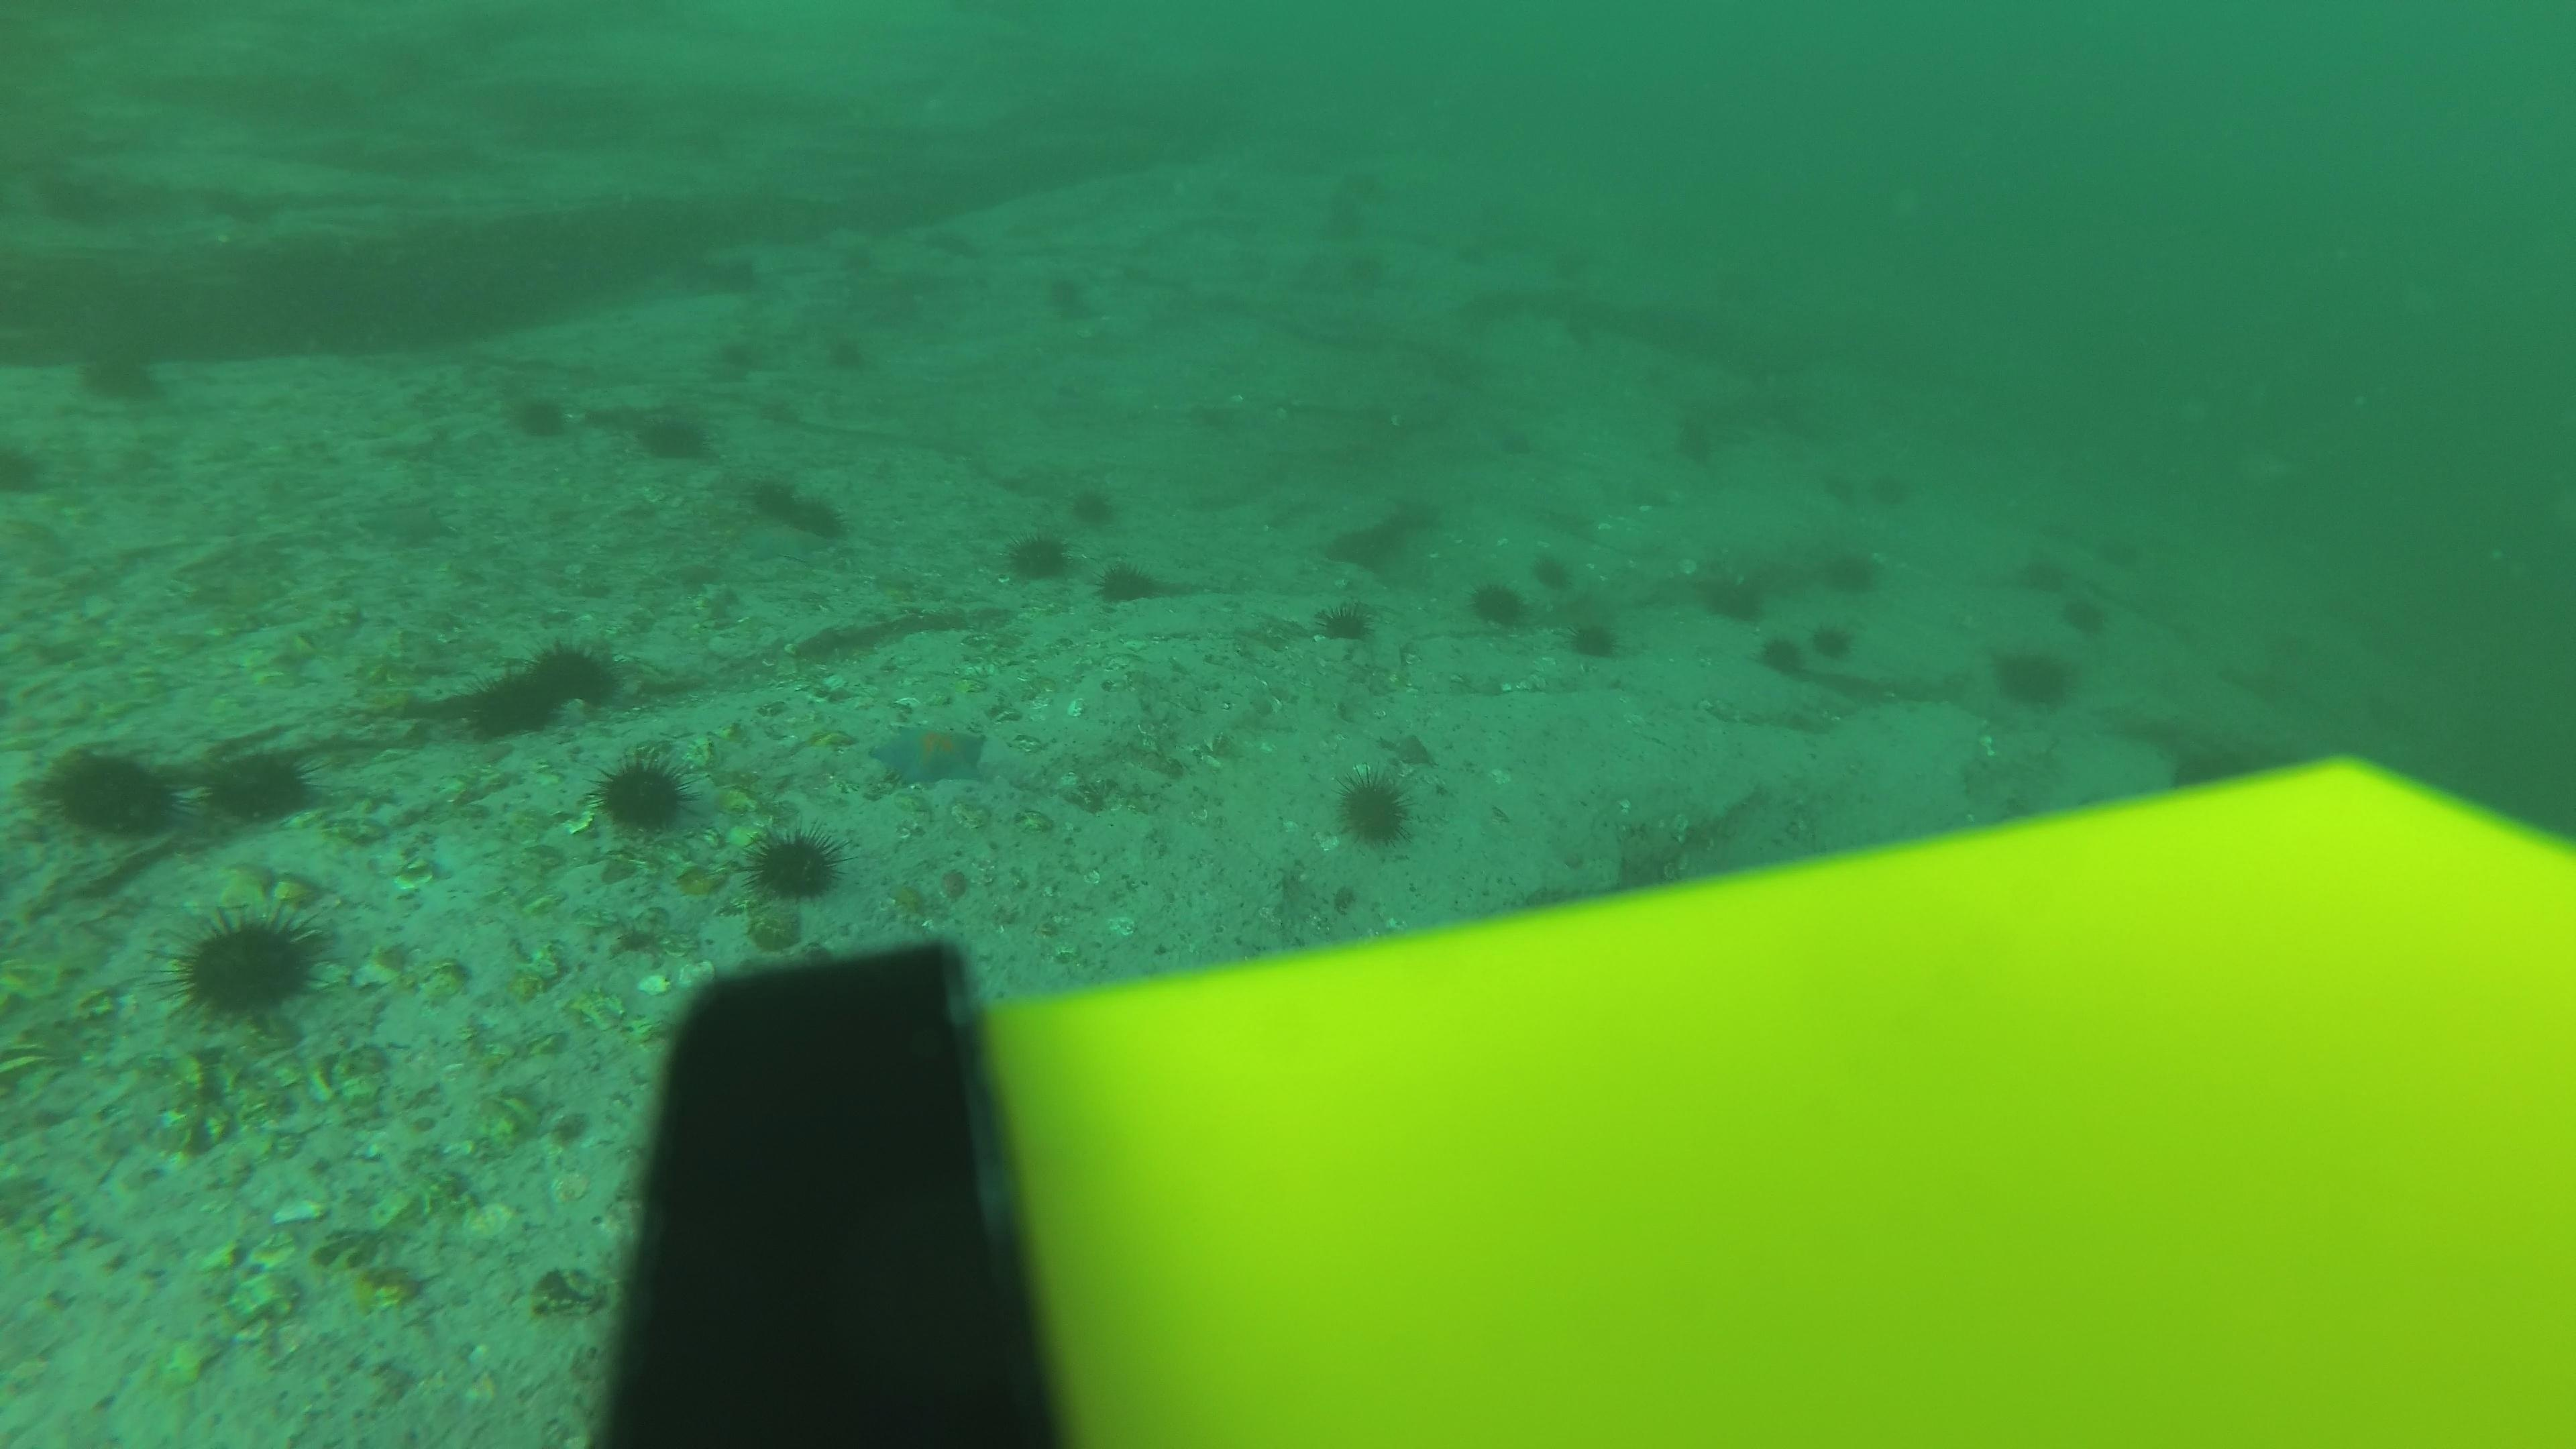echinus: (166, 897, 331, 1028), (35, 738, 184, 847), (198, 738, 318, 830), (586, 747, 697, 840), (741, 821, 847, 908), (69, 331, 172, 409), (1329, 766, 1421, 853), (458, 671, 563, 745), (527, 633, 619, 713), (1990, 639, 2079, 713), (632, 400, 717, 467), (1697, 557, 1769, 626), (1000, 525, 1076, 589), (501, 384, 577, 446), (2162, 738, 2243, 793), (1465, 571, 1529, 633), (1741, 628, 1810, 683), (1093, 556, 1161, 610), (1822, 541, 1884, 600), (1313, 594, 1378, 648), (915, 216, 984, 265), (1562, 612, 1624, 665), (1065, 478, 1122, 534), (1044, 269, 1100, 326), (711, 333, 768, 389), (745, 469, 809, 518), (883, 271, 939, 326), (819, 326, 874, 382), (757, 384, 814, 439), (824, 235, 881, 290), (1185, 165, 1242, 219), (1520, 550, 1585, 594), (2059, 596, 2112, 649), (2022, 554, 2075, 607), (1806, 617, 1859, 669), (2089, 524, 2143, 575), (1810, 467, 1859, 515), (1665, 419, 1714, 467), (1458, 285, 1507, 333), (1338, 161, 1387, 209), (1532, 234, 1582, 281), (1550, 315, 1599, 363), (2327, 587, 2376, 635), (1739, 350, 1789, 398), (1868, 469, 1916, 517), (1350, 249, 1398, 297), (1309, 186, 1357, 234), (1490, 421, 1537, 469), (1442, 228, 1491, 274)
starfish: (867, 717, 994, 793), (356, 492, 458, 552), (731, 517, 835, 570), (791, 487, 863, 538), (778, 718, 858, 763), (671, 858, 729, 909), (1378, 725, 1437, 770)
